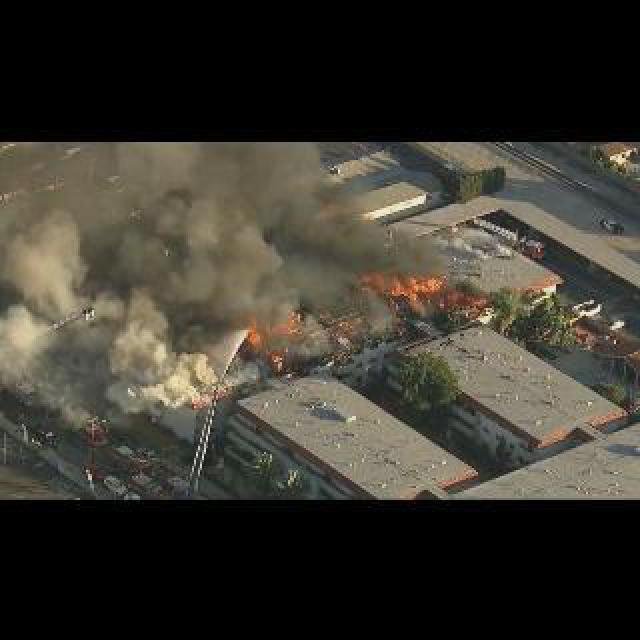Fire: (360, 268, 430, 296), (460, 290, 486, 310), (272, 320, 296, 332), (246, 326, 262, 344), (270, 352, 284, 368)
Smoke: (1, 139, 402, 307), (0, 296, 222, 416)
